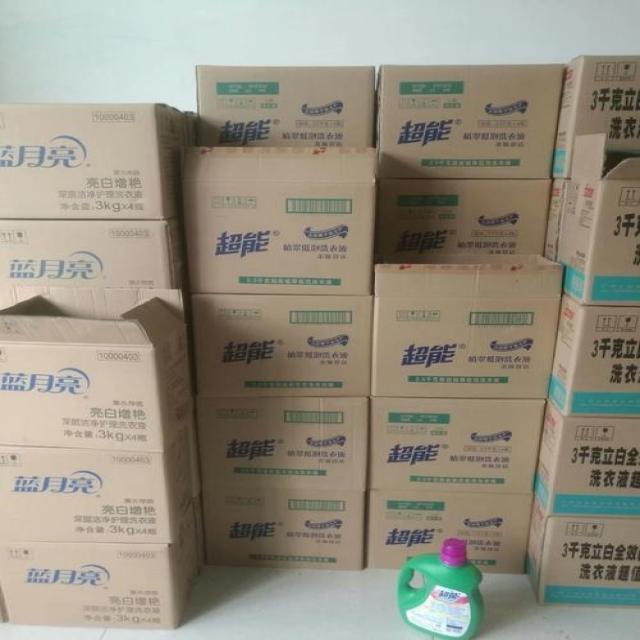box: (0, 286, 196, 453), (180, 147, 376, 296), (371, 254, 563, 399), (0, 502, 201, 630), (0, 426, 193, 543), (376, 62, 566, 179), (0, 103, 186, 220), (188, 295, 374, 397), (0, 215, 186, 314), (366, 397, 547, 493), (196, 396, 370, 490), (364, 487, 534, 575), (196, 65, 376, 148), (557, 134, 640, 306), (201, 485, 365, 570), (375, 179, 552, 255), (531, 399, 640, 521), (526, 495, 640, 609), (544, 294, 640, 418), (552, 55, 640, 180)
